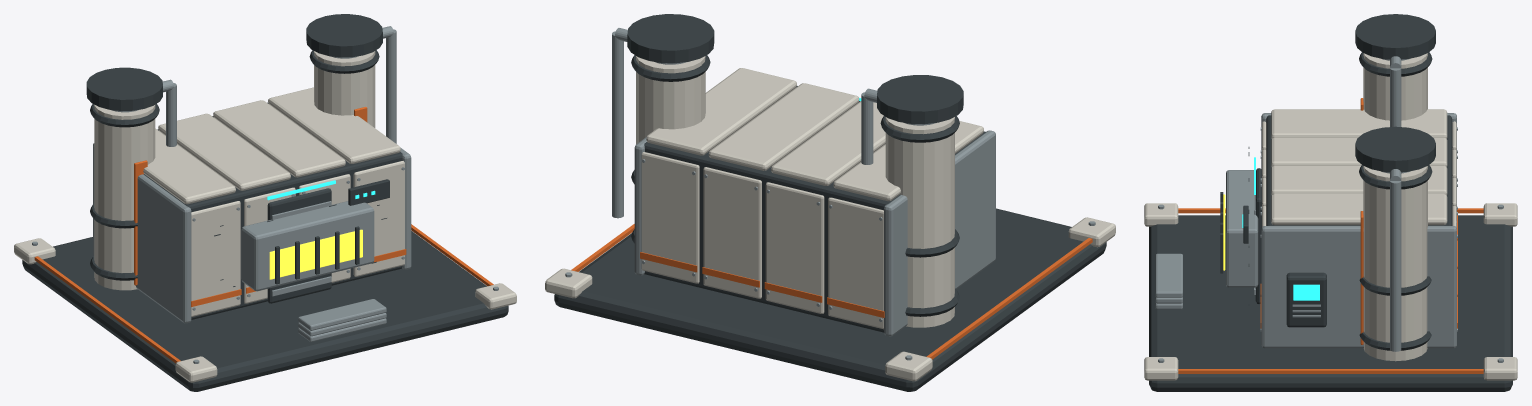
The model's file is SM_CeramicsKiln_Body.fbx.
The picture shows the model from 3 angles, left to right: view 1: azimuth 30°, elevation 25°; view 2: azimuth 150°, elevation 25°; view 3: azimuth 270°, elevation 25°; orthographic projection. The views are drawn at different scales.
Visible parts, largest first — view 1: SM_CeramicsKiln_Body; view 2: SM_CeramicsKiln_Body; view 3: SM_CeramicsKiln_Body.
Part boxes in pixels (<box>): SM_CeramicsKiln_Body: <box>14,14,516,391</box>; SM_CeramicsKiln_Body: <box>545,14,1115,391</box>; SM_CeramicsKiln_Body: <box>1144,14,1517,391</box>.
Size of the model in its own units: 492 by 462 by 308.
